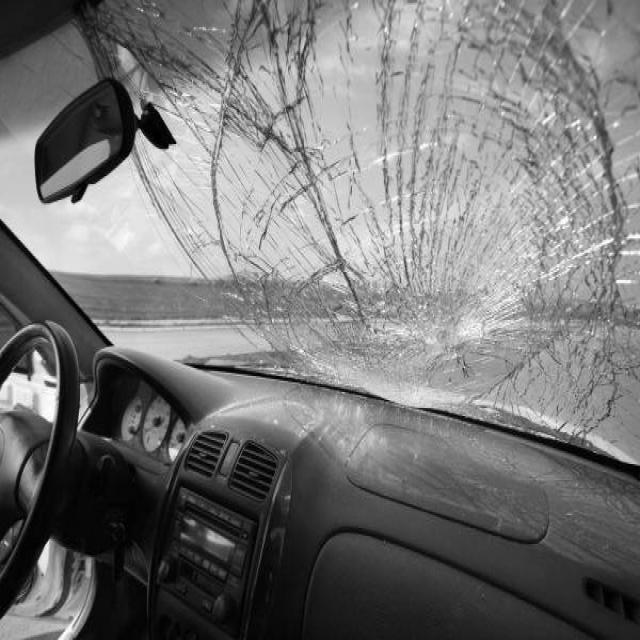crack: (39, 0, 640, 466)
